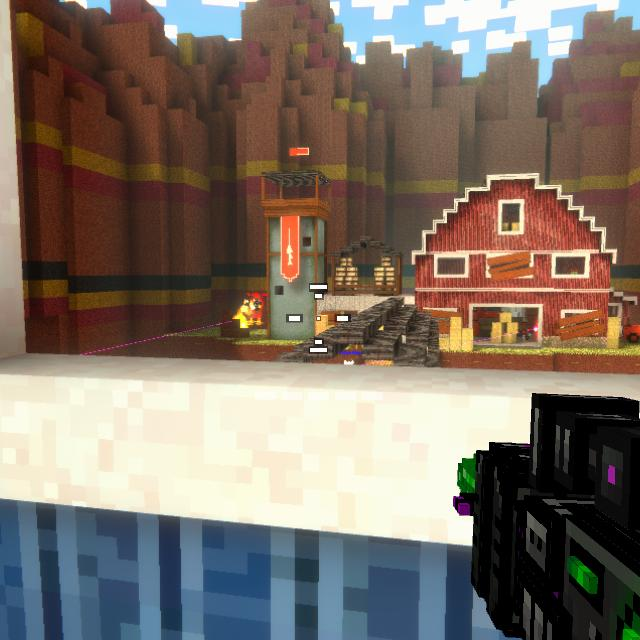Enemy: (254, 298, 262, 314)
